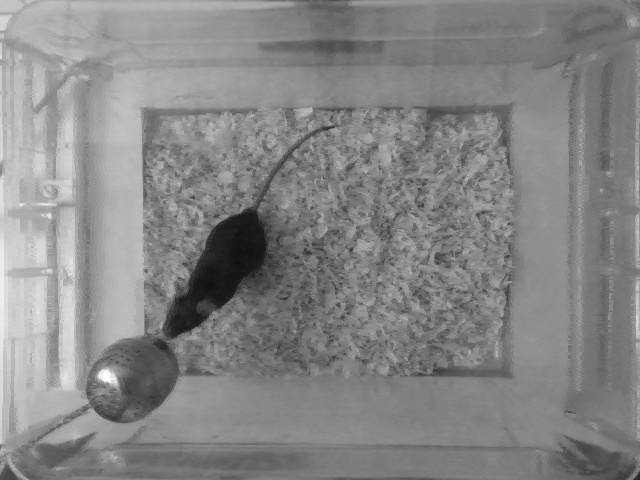mice: (160, 119, 339, 343)
